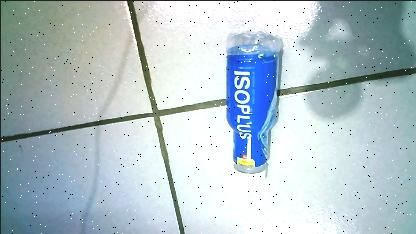Plastic Bottle: (218, 42, 280, 186)
